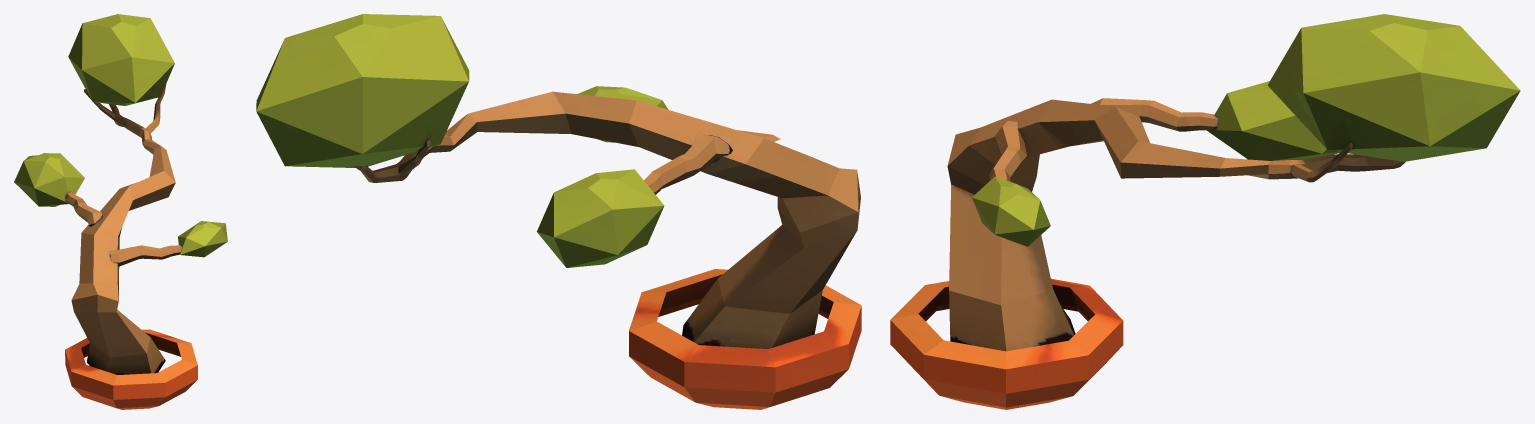
File: 1BtyNc_gX5a.glb
3 views of the same model, side by side, from view 1: azimuth 30°, elevation 25°; view 2: azimuth 150°, elevation 25°; view 3: azimuth 270°, elevation 25° (orthographic). The views are drawn at different scales.
Visible parts, largest first — view 1: bonsai; view 2: bonsai; view 3: bonsai.
Boxes of the visible parts, x1=… form: bonsai: x1=14, y1=14, x2=227, y2=409; bonsai: x1=256, y1=14, x2=861, y2=409; bonsai: x1=890, y1=14, x2=1520, y2=409.
Bounding box in the file's own units: 0.8596 × 1 × 1.28.
Materials: 1 (1 with a texture image).
